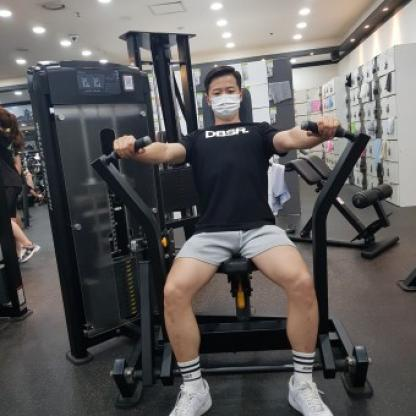Chest Press machine: (24, 22, 398, 416)
